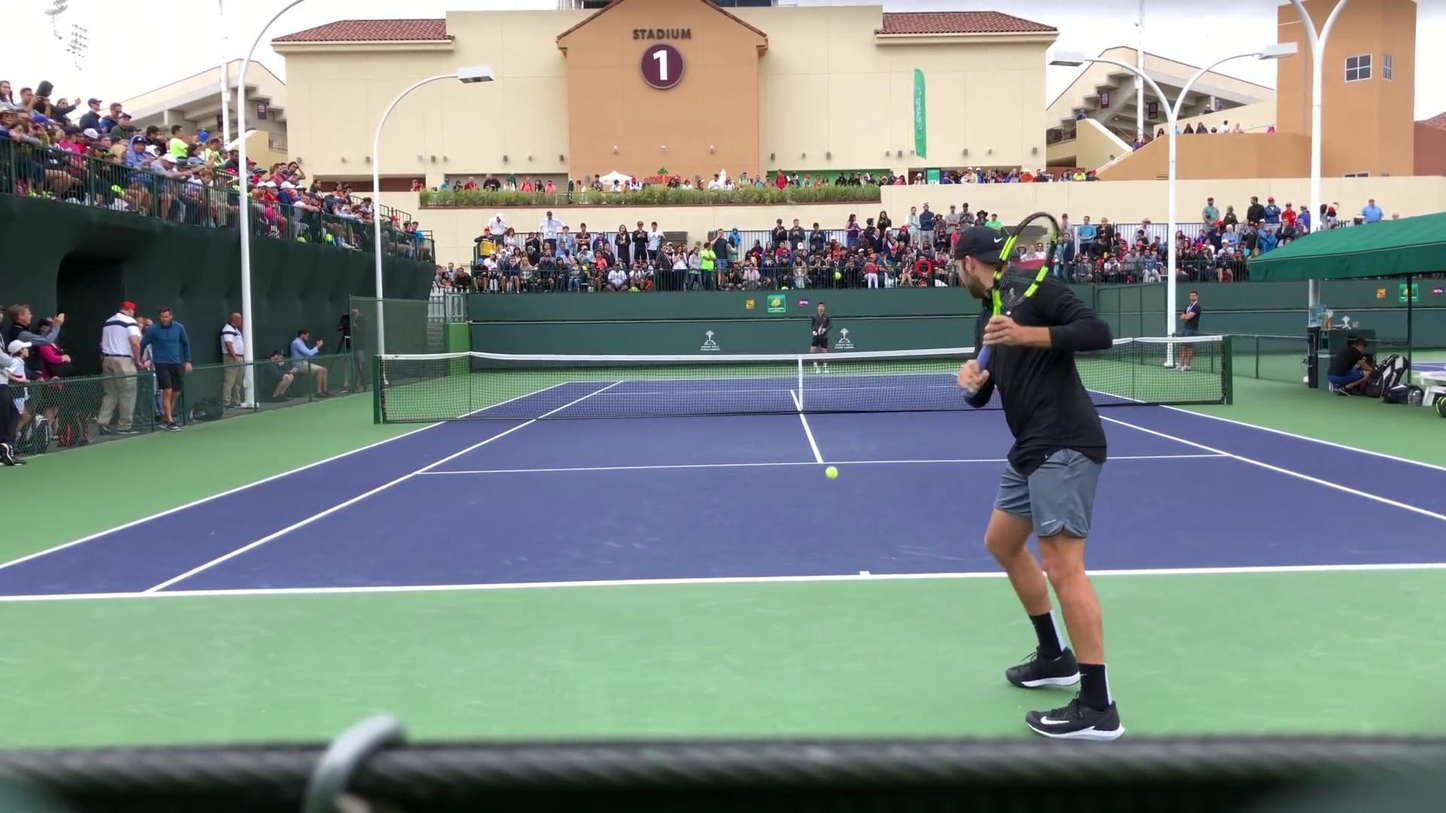ball: (824, 467, 839, 480)
